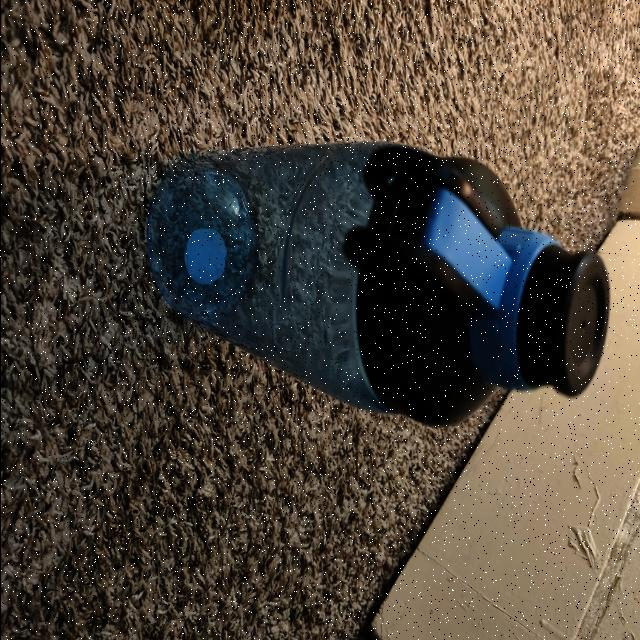bottle: (145, 146, 604, 415)
